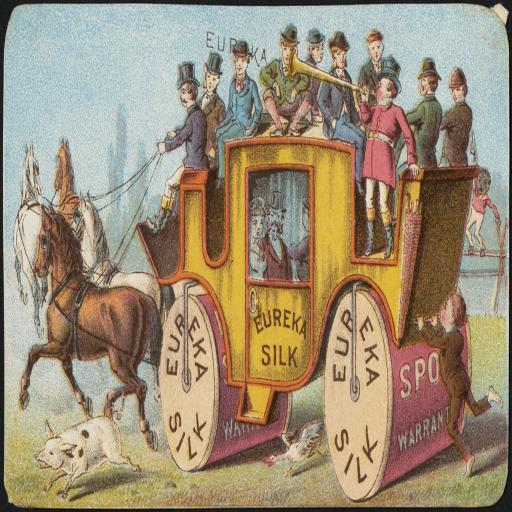Horse: (19, 201, 164, 449), (68, 188, 176, 406), (12, 140, 43, 339), (54, 140, 82, 224)
